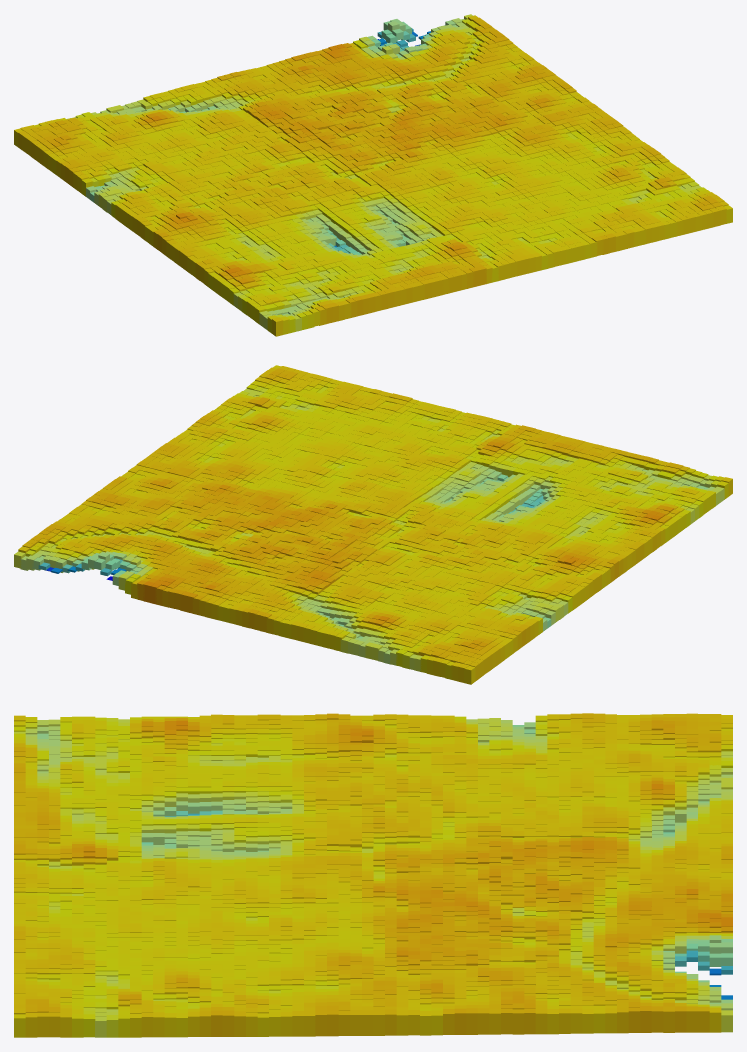
The model's file is population.glb.
3 renders of one model, top to bottom at view 1: azimuth 30°, elevation 25°; view 2: azimuth 150°, elevation 25°; view 3: azimuth 270°, elevation 25°, orthographic. The views are drawn at different scales.
Parts seen in each view (by area): view 1: population; view 2: population; view 3: population.
Boxes of the visible parts, x1,y1,x2,y2 form: population: (14,14,732,336); population: (14,365,732,684); population: (14,713,732,1037).
Size of the model in its own units: 6224 by 459 by 6178.
